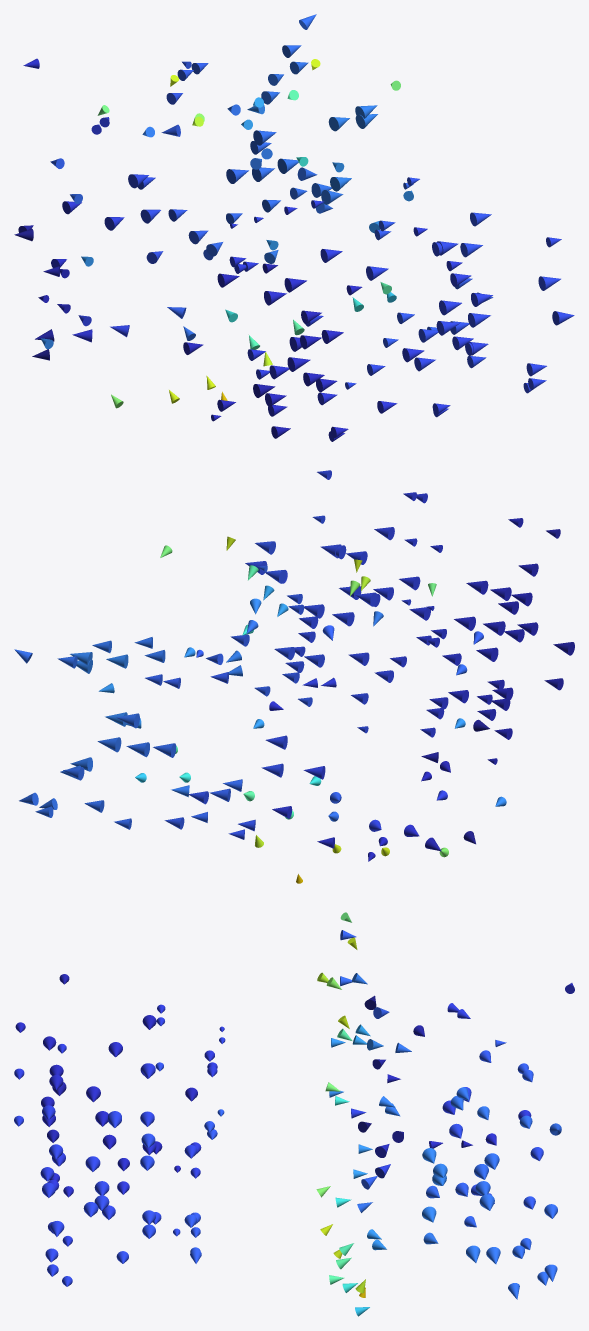
File: LineasCorrienteN2-H2O_mh2-5.58_V-1.1.glb
3 renders of one model, top to bottom at view 1: azimuth 30°, elevation 25°; view 2: azimuth 150°, elevation 25°; view 3: azimuth 270°, elevation 25°, orthographic. The views are drawn at different scales.
Size of the model in its own units: 0.000971 by 0.000795 by 0.00122.
2 materials, 2 textured.
